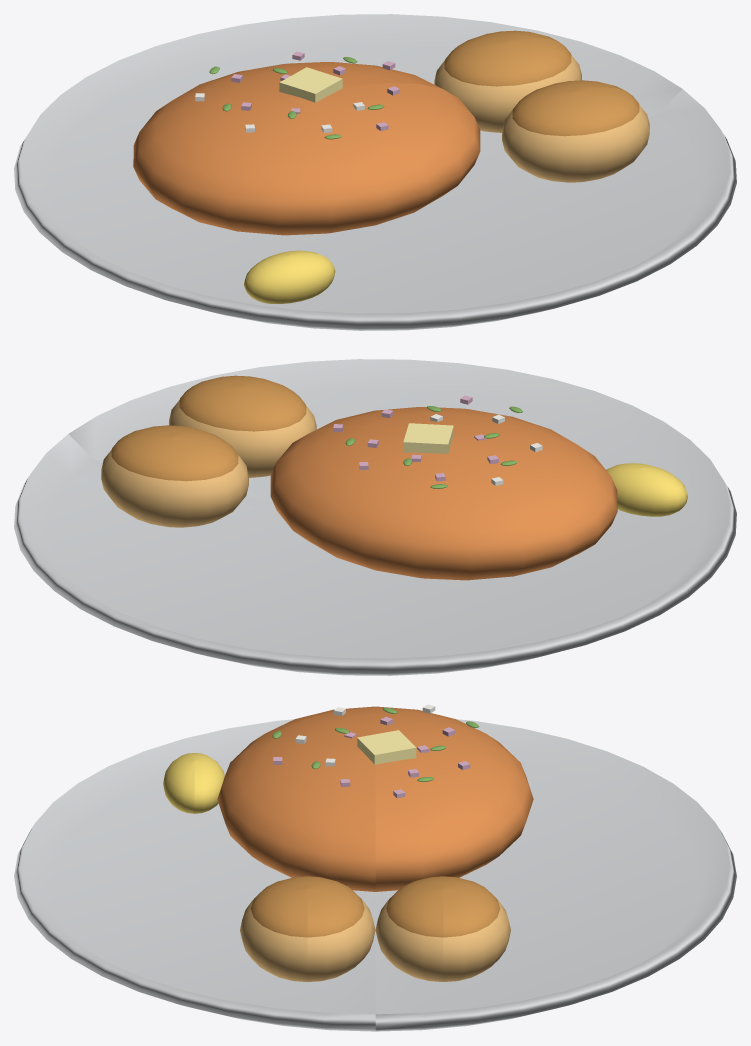
File: pav-bhaji.glb
3 views of the same model, one above another, from view 1: azimuth 30°, elevation 25°; view 2: azimuth 150°, elevation 25°; view 3: azimuth 270°, elevation 25° (orthographic).
Parts seen in each view (by area): view 1: pav-bhaji; view 2: pav-bhaji; view 3: pav-bhaji.
Part boxes in pixels (x1,y1,x2,y2): pav-bhaji: (14,14,736,330); pav-bhaji: (14,359,736,675); pav-bhaji: (14,704,736,1031).
Bounding box in the file's own units: 0.32 × 0.06 × 0.32.
